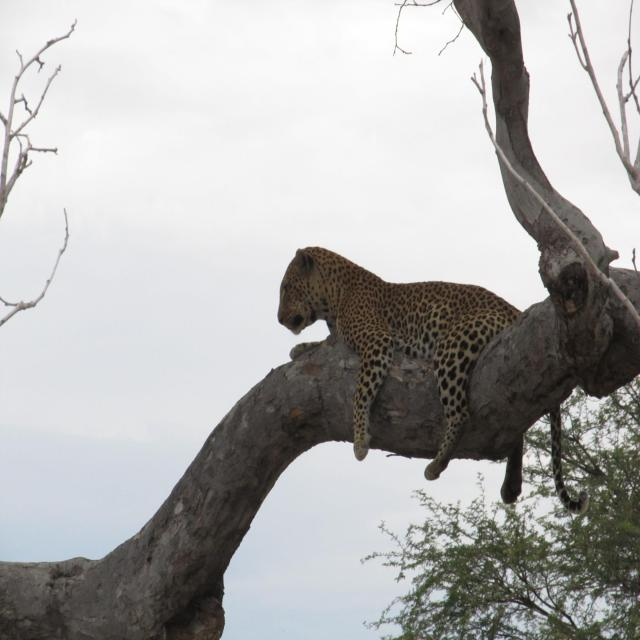Leopard: (273, 238, 598, 520)
